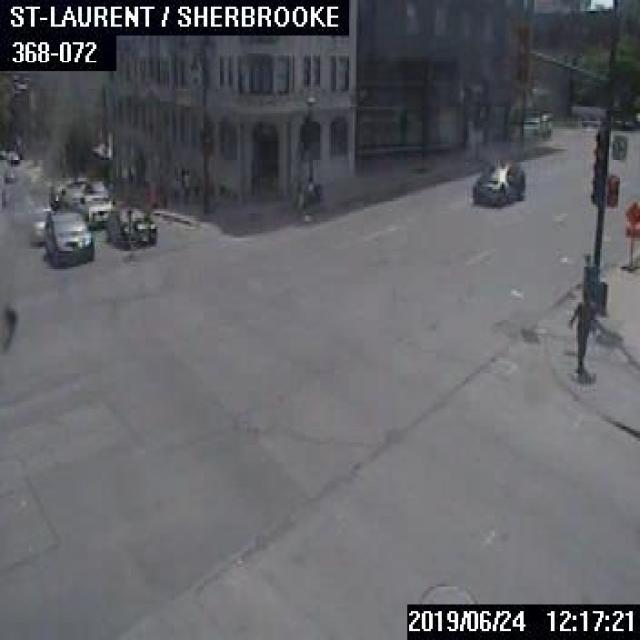construction: (619, 200, 638, 269)
pedestrian: (566, 289, 589, 369)
vehicle: (42, 210, 93, 264), (471, 160, 524, 207), (105, 205, 156, 248), (73, 188, 115, 226), (27, 204, 52, 243), (2, 166, 14, 182), (6, 150, 18, 164)
